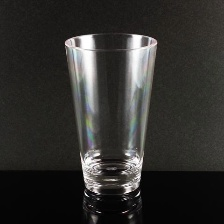glass: (58, 27, 166, 199)
